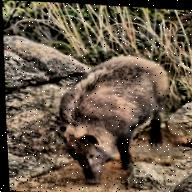boar: (41, 45, 192, 192)
